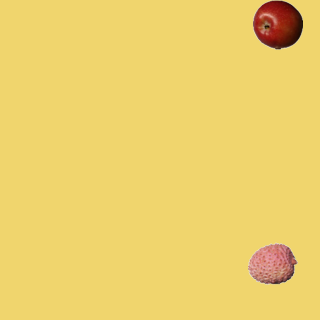Apple Braeburn: (252, 0, 302, 49)
Lychee: (247, 238, 297, 288)
